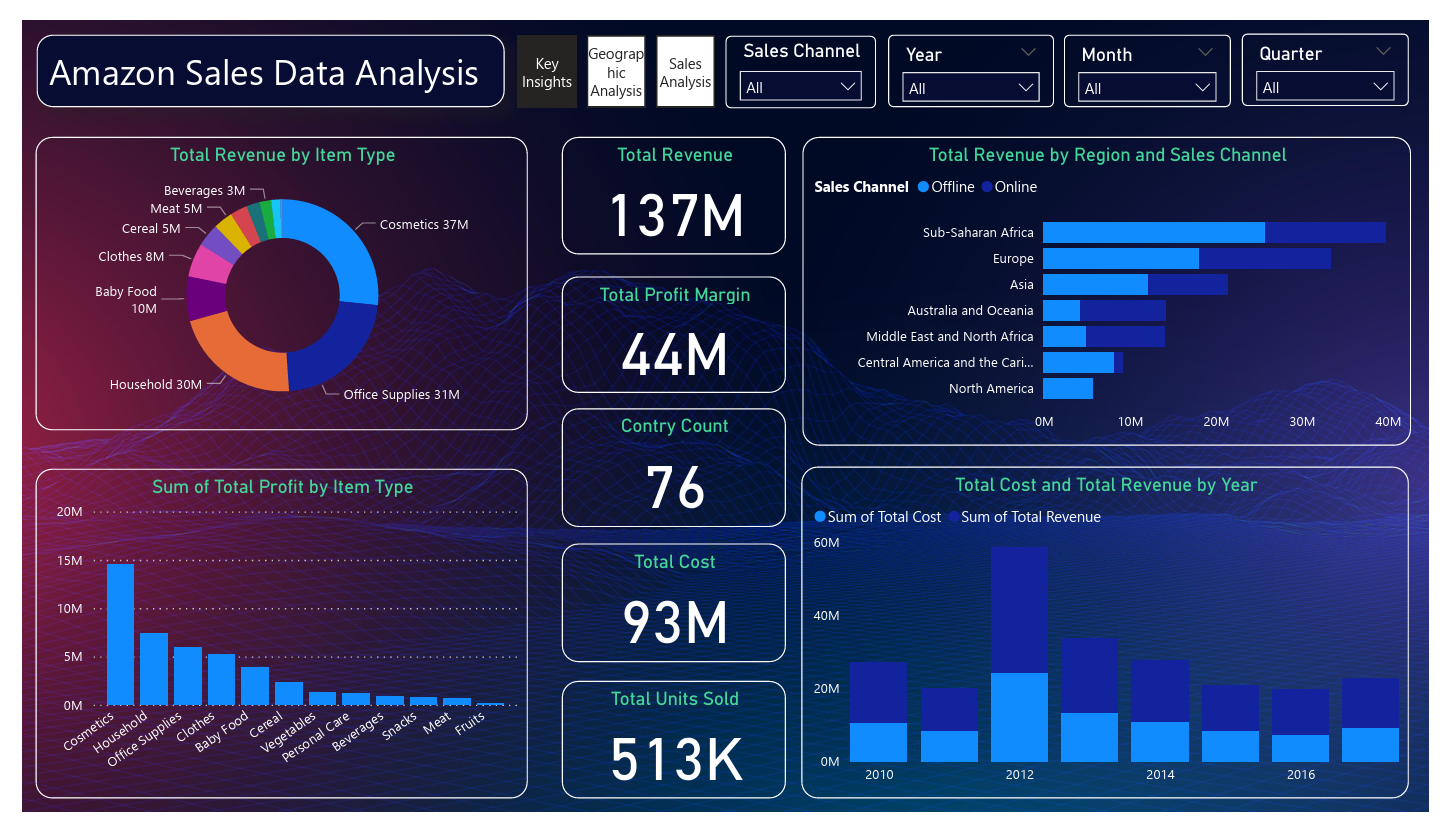

This screenshot's page, from the dashboard's own definition file:
{"tool":"powerbi","page":{"name":"Key Insights","canvas":[1280,720],"ordinal":0},"visuals":[{"type":"barChart","title":"Total Revenue by Region and Sales Channel","fields":{"Category":["Amazonsalesdata.Region"],"Series":["Amazonsalesdata.Sales Channel"],"Y":["Sum(Amazonsalesdata.Total Revenue)"]},"box":[710.4,106.1,553.6,281],"z":0},{"type":"textbox","box":[12.5,12.5,426.2,66.2],"z":1000},{"type":"slicer","title":"Sales Channel","fields":{"Values":["Amazonsalesdata.Sales Channel"]},"box":[639.7,14.1,137.5,65.5],"z":2000},{"type":"card","title":"Total Revenue","fields":{"Values":["Sum(Amazonsalesdata.Total Revenue)"]},"box":[490.9,106.1,203.8,107.3],"z":3000},{"type":"card","title":"Total Profit Margin","fields":{"Values":["Sum(Amazonsalesdata.Total Profit)"]},"box":[490.9,232.8,203.8,106.1],"z":4000},{"type":"card","title":"Total Units Sold","fields":{"Values":["Sum(Amazonsalesdata.Units Sold)"]},"box":[490.9,600.6,203.8,107.3],"z":5000},{"type":"donutChart","title":"Total Revenue by Item Type","fields":{"Category":["Amazonsalesdata.Item Type"],"Y":["Sum(Amazonsalesdata.Total Revenue)"]},"box":[12.3,105.7,447.3,267.6],"z":6000},{"type":"slicer","fields":{"Values":["Amazonsalesdata.Ship Date.Variation.Date Hierarchy.Year"]},"box":[787.5,12.5,151.2,66.2],"z":7000},{"type":"slicer","fields":{"Values":["Amazonsalesdata.Ship Date.Variation.Date Hierarchy.Month"]},"box":[947.5,12.5,152.5,66.2],"z":8000},{"type":"slicer","fields":{"Values":["Amazonsalesdata.Ship Date.Variation.Date Hierarchy.Quarter"]},"box":[1110.1,12.3,152.3,65.9],"z":9000},{"type":"card","title":"Total Cost","fields":{"Values":["Sum(Amazonsalesdata.Total Cost)"]},"box":[490.9,476.4,203.8,107.3],"z":10000},{"type":"columnChart","title":"Total Cost and Total Revenue by Year","fields":{"Category":["Amazonsalesdata.Ship Date.Variation.Date Hierarchy.Year"],"Y":["Sum(Amazonsalesdata.Total Cost)","Sum(Amazonsalesdata.Total Revenue)"]},"box":[709.4,406.2,553,301.9],"z":11000},{"type":"columnChart","fields":{"Category":["Amazonsalesdata.Item Type"],"Y":["Sum(Amazonsalesdata.Total Profit)"]},"box":[12.3,407.5,447.3,300.5],"z":12000},{"type":"pageNavigator","box":[450.9,14.1,179.8,65.5],"z":13000},{"type":"card","title":"Contry Count","fields":{"Values":["Count(Amazonsalesdata.Country)"]},"box":[490.9,353.4,203.8,107.3],"z":14000}]}

Visuals, with their boxes in screenshot pixels (x1, y1, x2, y2), scaled from the page's 1280x720 canvas onto the 1451x830 screenshot:
"Total Revenue by Region and Sales Channel" barChart: rect(805, 122, 1433, 446)
textbox: rect(14, 14, 497, 91)
"Sales Channel" slicer: rect(725, 16, 881, 92)
"Total Revenue" card: rect(556, 122, 788, 246)
"Total Profit Margin" card: rect(556, 268, 788, 391)
"Total Units Sold" card: rect(556, 692, 788, 816)
"Total Revenue by Item Type" donutChart: rect(14, 122, 521, 430)
slicer - Amazonsalesdata.Ship Date.Variation.Date Hierarchy.Year: rect(893, 14, 1064, 91)
slicer - Amazonsalesdata.Ship Date.Variation.Date Hierarchy.Month: rect(1074, 14, 1247, 91)
slicer - Amazonsalesdata.Ship Date.Variation.Date Hierarchy.Quarter: rect(1258, 14, 1431, 90)
"Total Cost" card: rect(556, 549, 788, 673)
"Total Cost and Total Revenue by Year" columnChart: rect(804, 468, 1431, 816)
columnChart - Amazonsalesdata.Item Type x Sum(Amazonsalesdata.Total Profit): rect(14, 470, 521, 816)
pageNavigator: rect(511, 16, 715, 92)
"Contry Count" card: rect(556, 407, 788, 531)
